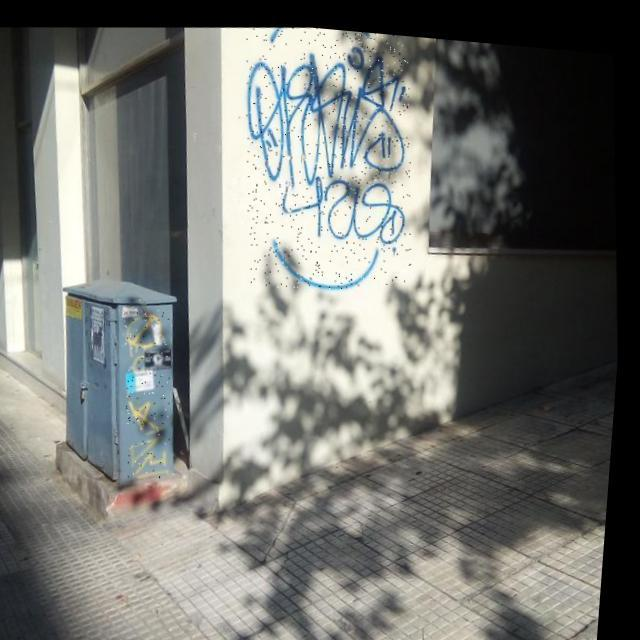-: (230, 17, 430, 294), (120, 306, 188, 478)
